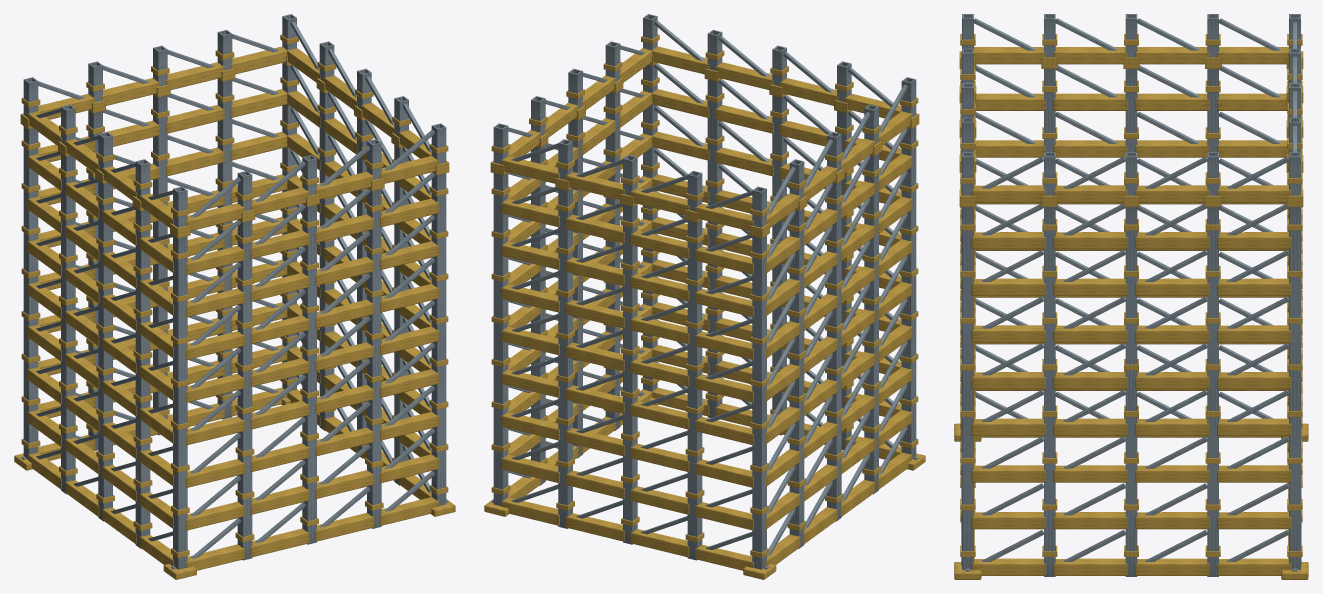
3 views of the same model, side by side, from view 1: azimuth 30°, elevation 25°; view 2: azimuth 150°, elevation 25°; view 3: azimuth 270°, elevation 25° (orthographic). The views are drawn at different scales.
Visible parts, largest first — view 1: Tier 0 side 0 post 0, Tier 0 side 1 post 0, Tier 0 side 0 post 1, Tier 0 side 0 post 2, Tier 0 side 0 post 3, Tier 0 side 3 post 0, Tier 0 side 3 post 3, Tier 0 side 3 post 2, Tier 0 side 3 post 1, Tier 0 side 2 post 1, Tier 0 side 2 post 2, Tier 0 side 1 post 3 (+90 smaller); view 2: Tier 0 side 3 post 0, Tier 0 side 2 post 0, Tier 0 side 2 post 3, Tier 0 side 2 post 2, Tier 0 side 2 post 1, Tier 0 side 0 post 0, Tier 0 side 3 post 1, Tier 0 side 3 post 2, Tier 0 side 3 post 3, Tier 0 side 0 post 3, Tier 0 side 1 post 1, Tier 0 side 0 post 2 (+96 smaller); view 3: Tier 0 side 1 post 2, Tier 0 side 1 post 0, Tier 0 side 2 post 0, Tier 0 side 1 post 1, Tier 0 side 1 post 3, Tier 0 bay 1-1-1 service deck, Tier 0 bay 1-1-2 service deck, Tier 0 bay 1-2-2 service deck, Tier 0 bay 1-4-1 service deck, Tier 0 bay 1-4-2 service deck, Tier 0 bay 1-7-1 service deck, Tier 0 bay 1-7-2 service deck (+48 smaller).
Part boxes in pixels (x1,y1,x2,y2): Tier 0 side 0 post 0: [173, 235, 187, 569]; Tier 0 side 1 post 0: [431, 173, 446, 505]; Tier 0 side 0 post 1: [237, 220, 252, 560]; Tier 0 side 0 post 2: [302, 204, 316, 544]; Tier 0 side 0 post 3: [367, 189, 381, 528]; Tier 0 side 3 post 0: [23, 126, 38, 458]; Tier 0 side 3 post 3: [135, 208, 150, 548]; Tier 0 side 3 post 2: [98, 181, 112, 521]; Tier 0 side 3 post 1: [61, 153, 75, 494]; Tier 0 side 2 post 1: [217, 79, 232, 419]; Tier 0 side 2 post 2: [153, 94, 167, 435]; Tier 0 side 1 post 3: [319, 90, 334, 430]; Tier 0 side 3 post 0: [752, 235, 766, 569]; Tier 0 side 2 post 0: [493, 172, 508, 505]; Tier 0 side 2 post 3: [687, 220, 702, 560]; Tier 0 side 2 post 2: [623, 204, 637, 544]; Tier 0 side 2 post 1: [558, 188, 572, 528]; Tier 0 side 0 post 0: [901, 126, 916, 458]; Tier 0 side 3 post 1: [789, 208, 804, 548]; Tier 0 side 3 post 2: [827, 181, 841, 521]; Tier 0 side 3 post 3: [864, 153, 878, 494]; Tier 0 side 0 post 3: [707, 79, 722, 417]; Tier 0 side 1 post 1: [605, 90, 620, 430]; Tier 0 side 0 post 2: [772, 95, 786, 435]; Tier 0 side 1 post 2: [1125, 207, 1137, 576]; Tier 0 side 1 post 0: [962, 207, 973, 569]; Tier 0 side 2 post 0: [1289, 207, 1300, 569]; Tier 0 side 1 post 1: [1044, 207, 1055, 576]; Tier 0 side 1 post 3: [1207, 207, 1218, 576]; Tier 0 bay 1-1-1 service deck: [1053, 512, 1127, 529]; Tier 0 bay 1-1-2 service deck: [1135, 512, 1209, 529]; Tier 0 bay 1-2-2 service deck: [1135, 465, 1209, 482]; Tier 0 bay 1-4-1 service deck: [1053, 372, 1127, 389]; Tier 0 bay 1-4-2 service deck: [1135, 372, 1209, 389]; Tier 0 bay 1-7-1 service deck: [1053, 232, 1127, 249]; Tier 0 bay 1-7-2 service deck: [1135, 232, 1209, 249].
Size of the model in its own units: 1.95 by 2.55 by 1.95.
Materials: 2 (2 with a texture image).
